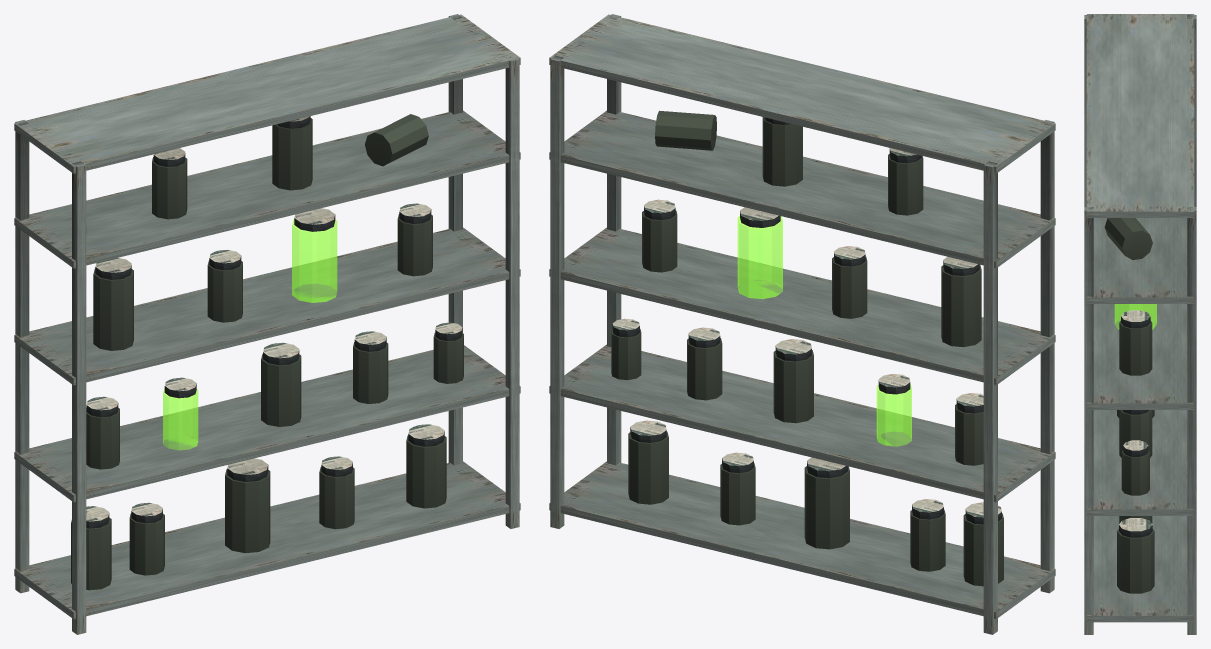
File: jar_shelf.glb
3 views of the same model, side by side, from view 1: azimuth 30°, elevation 25°; view 2: azimuth 150°, elevation 25°; view 3: azimuth 270°, elevation 25° (orthographic). The views are drawn at different scales.
Parts seen in each view (by area): view 1: JarShelf; view 2: JarShelf; view 3: JarShelf.
Boxes of the visible parts, x1=… form: JarShelf: x1=14, y1=14, x2=520, y2=634; JarShelf: x1=549, y1=14, x2=1055, y2=634; JarShelf: x1=1084, y1=14, x2=1196, y2=634.
Bounding box in the file's own units: 2 × 2 × 0.48.
3 materials, 1 textured.
